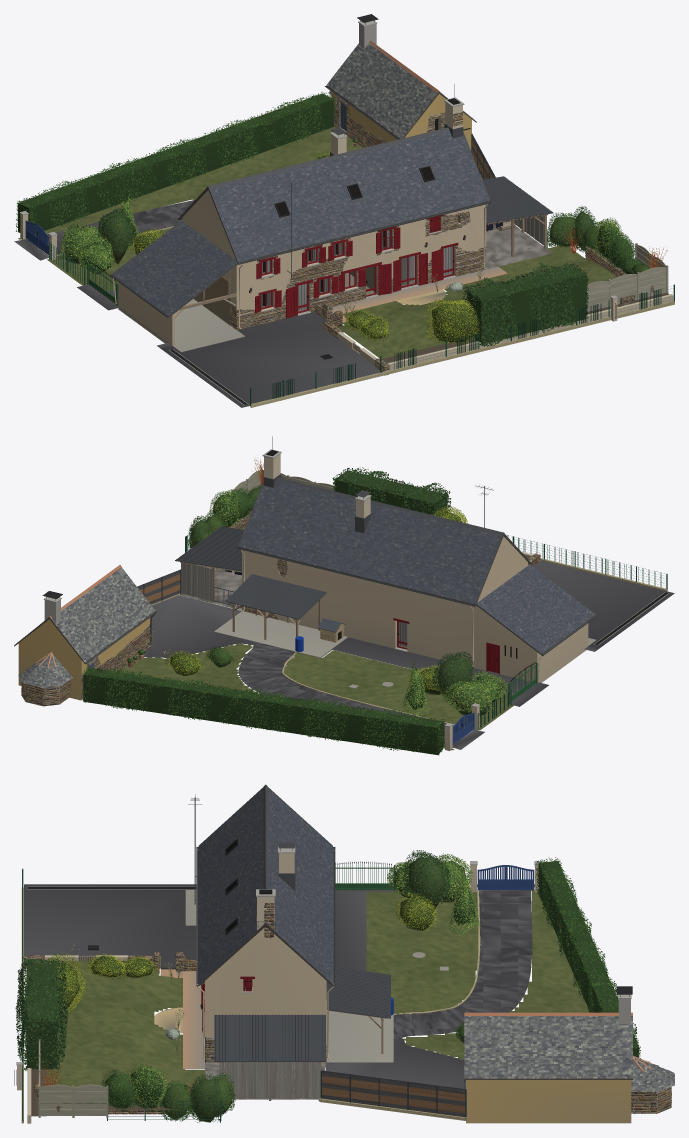
Rendered from longere.glb.
The picture shows the model from 3 angles, top to bottom: view 1: azimuth 30°, elevation 25°; view 2: azimuth 150°, elevation 25°; view 3: azimuth 270°, elevation 25°; orthographic projection. The views are drawn at different scales.
Parts seen in each view (by area): view 1: GLB_LG_veg_haies, GLB_LG_ardoises, GLB_LG_sol_enrobe, GLB_LG_veg_arbustes, GLB_LG_murs, GLB_LG_menuiseries, GLB_LG_carport_o_ardoises, GLB_LG_pelouse_nord, GLB_LG_pelouse_jardin, GLB_LG_dep_ardoises, GLB_LG_carport_o, GLB_LG_sol_divers (+12 smaller); view 2: GLB_LG_ardoises, GLB_LG_veg_haies, GLB_LG_sol_enrobe, GLB_LG_murs, GLB_LG_pelouse_nord, GLB_LG_veg_arbustes, GLB_LG_carport_n, GLB_LG_dep_ardoises, GLB_LG_carport_o_ardoises, GLB_LG_carport_o, GLB_LG_appentis, GLB_LG_dep_murs (+11 smaller); view 3: GLB_LG_sol_enrobe, GLB_LG_ardoises, GLB_LG_pelouse_nord, GLB_LG_veg_arbustes, GLB_LG_pelouse_jardin, GLB_LG_dep_ardoises, GLB_LG_veg_haies, GLB_LG_appentis, GLB_LG_murs, GLB_LG_dep_murs, GLB_LG_carport_n, GLB_LG_cloture_composite (+9 smaller).
Boxes of the visible parts, x1,y1,x2,y2 form: GLB_LG_veg_haies: [16, 91, 588, 346]; GLB_LG_ardoises: [181, 130, 489, 261]; GLB_LG_sol_enrobe: [14, 200, 674, 407]; GLB_LG_veg_arbustes: [59, 128, 667, 346]; GLB_LG_murs: [182, 190, 486, 329]; GLB_LG_menuiseries: [255, 215, 459, 318]; GLB_LG_carport_o_ardoises: [112, 220, 237, 315]; GLB_LG_pelouse_nord: [18, 126, 362, 291]; GLB_LG_pelouse_jardin: [337, 245, 616, 358]; GLB_LG_dep_ardoises: [326, 43, 474, 138]; GLB_LG_carport_o: [110, 264, 244, 352]; GLB_LG_sol_divers: [169, 224, 552, 405]; GLB_LG_ardoises: [238, 479, 528, 604]; GLB_LG_veg_haies: [82, 467, 451, 755]; GLB_LG_sol_enrobe: [137, 558, 674, 749]; GLB_LG_murs: [242, 536, 527, 668]; GLB_LG_pelouse_nord: [120, 643, 513, 750]; GLB_LG_veg_arbustes: [115, 457, 508, 717]; GLB_LG_carport_n: [214, 574, 347, 657]; GLB_LG_dep_ardoises: [15, 567, 155, 687]; GLB_LG_carport_o_ardoises: [476, 564, 595, 653]; GLB_LG_carport_o: [476, 604, 597, 682]; GLB_LG_appentis: [175, 526, 244, 607]; GLB_LG_dep_murs: [18, 617, 150, 700]; GLB_LG_sol_enrobe: [21, 884, 534, 1123]; GLB_LG_ardoises: [198, 788, 332, 983]; GLB_LG_pelouse_nord: [366, 888, 589, 1059]; GLB_LG_veg_arbustes: [24, 850, 480, 1122]; GLB_LG_pelouse_jardin: [46, 961, 204, 1109]; GLB_LG_dep_ardoises: [464, 1016, 674, 1091]; GLB_LG_veg_haies: [15, 857, 640, 1070]; GLB_LG_appentis: [214, 1014, 325, 1100]; GLB_LG_murs: [205, 927, 326, 1067]; GLB_LG_dep_murs: [466, 1080, 631, 1123]; GLB_LG_carport_n: [326, 967, 393, 1062]; GLB_LG_cloture_composite: [319, 1070, 467, 1120].
Bounding box in the file's own units: 32.56 × 12.3 × 37.98.
